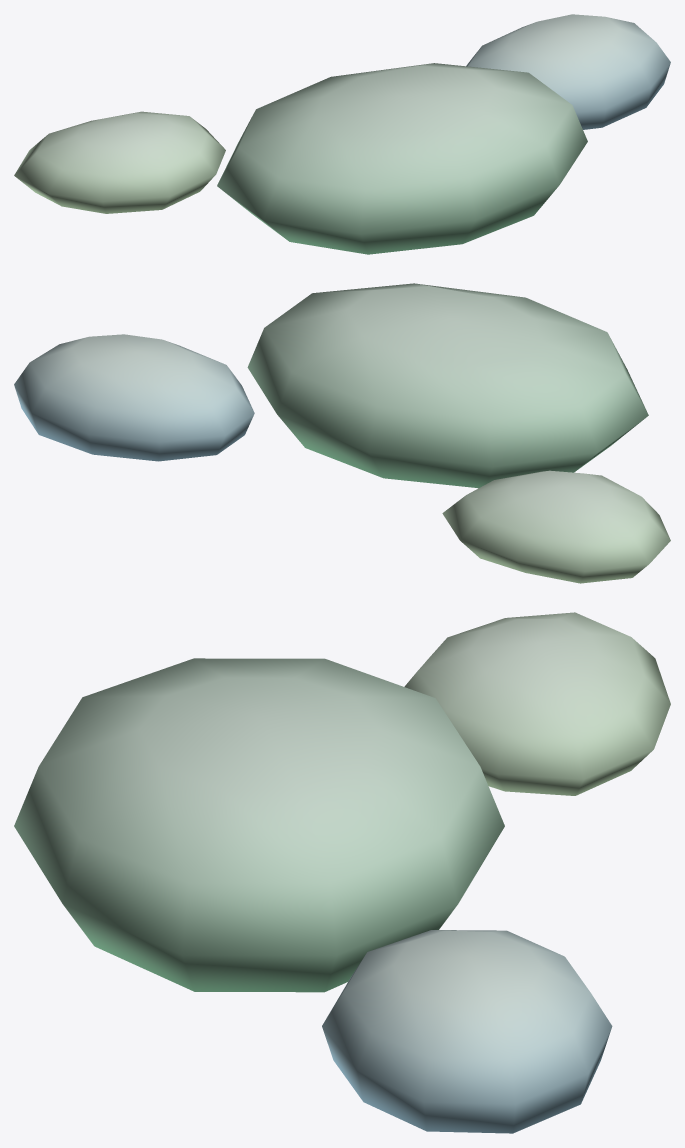
The model's file is col_river_glass.glb.
The picture shows the model from 3 angles, top to bottom: view 1: azimuth 30°, elevation 25°; view 2: azimuth 150°, elevation 25°; view 3: azimuth 270°, elevation 25°; orthographic projection. The views are drawn at different scales.
Visible parts, largest first — view 1: col_river_glass; view 2: col_river_glass; view 3: col_river_glass.
Boxes of the visible parts, box(x1,y1,x2,y2) form: col_river_glass: box(14, 14, 670, 254); col_river_glass: box(14, 283, 670, 583); col_river_glass: box(14, 612, 670, 1133).
Size of what is drawn, in the model's own units: 0.259 by 0.042 by 0.1504.
